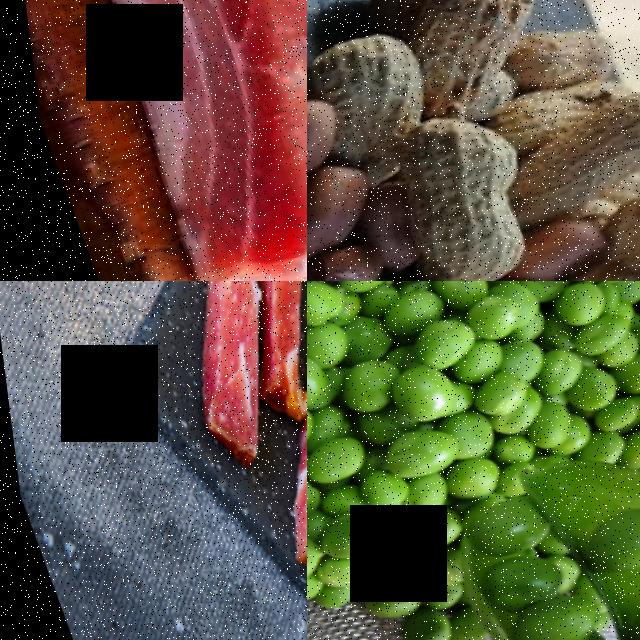peanuts: (386, 108, 544, 281), (391, 0, 538, 118), (510, 91, 640, 221), (307, 21, 435, 152), (505, 15, 628, 107), (307, 157, 376, 265), (587, 180, 640, 281), (307, 89, 348, 186), (307, 238, 384, 281)
peas: (307, 281, 640, 572)
pork belly: (23, 0, 307, 281), (118, 281, 307, 470), (245, 416, 307, 586)
